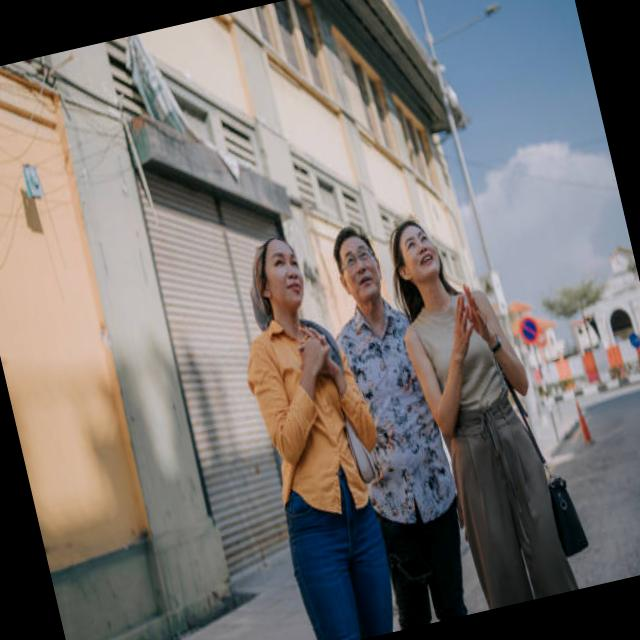Person: (373, 171, 596, 614), (206, 202, 411, 640), (304, 199, 483, 630)
